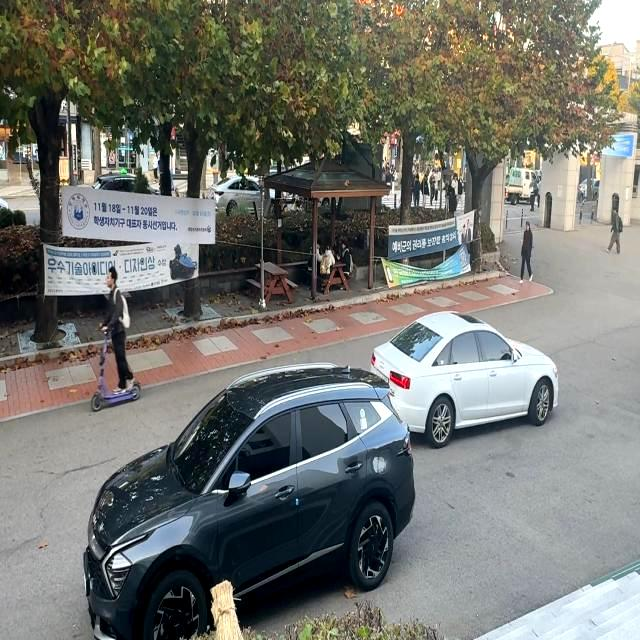bare_head: (102, 263, 122, 292)
human: (94, 260, 141, 387)
kickboard: (81, 383, 164, 408)
